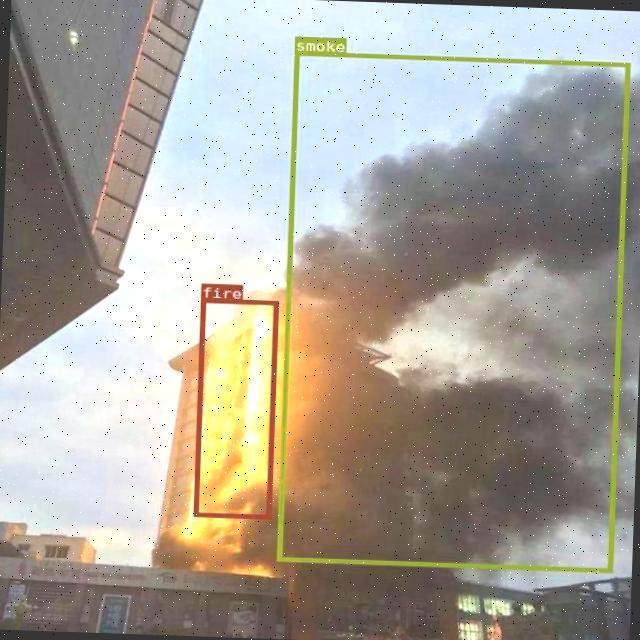fire: (192, 297, 278, 518)
smoke: (276, 50, 629, 571)
